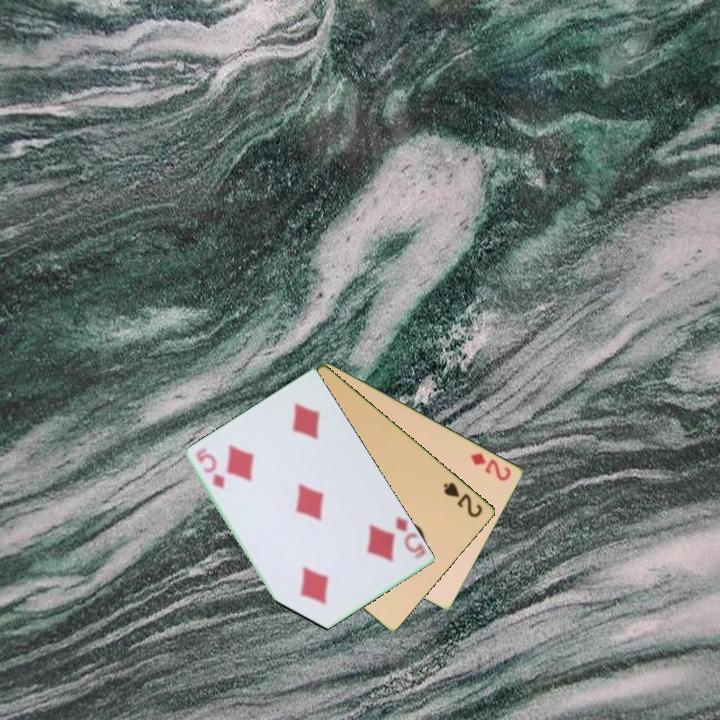2d: (467, 449, 515, 484)
2s: (440, 479, 486, 520)
5d: (392, 513, 429, 562), (192, 448, 228, 492)
